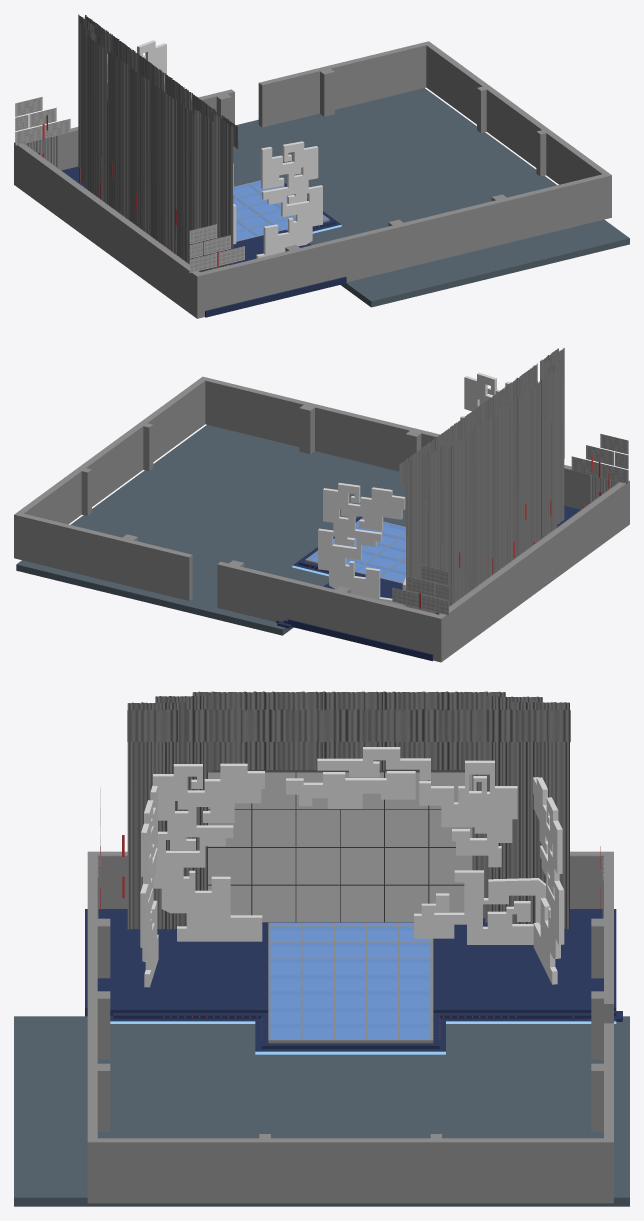
File: stage2.FBX
The picture shows the model from 3 angles, top to bottom: view 1: azimuth 30°, elevation 25°; view 2: azimuth 150°, elevation 25°; view 3: azimuth 270°, elevation 25°; orthographic projection. The views are drawn at different scales.
Visible parts, largest first — view 1: Line03, Rectangle17, Layer:01, obj_11, obj_20, obj_24, obj_22, obj_17, Group188, obj_10, Object03, obj_09 (+5 smaller); view 2: Line03, Rectangle17, Layer:02, obj_11, obj_22, obj_20, obj_24, obj_17, Group188, obj_16, obj_14, Object03 (+5 smaller); view 3: Rectangle17, Line03, Layer:0, Box01, Object03, Group188, Line01, Line31, obj_16, obj_10, Layer:02, Line08 (+15 smaller).
Boxes of the visible parts, x1=… form: Line03: x1=14, y1=41, x2=611, y2=318; Rectangle17: x1=233, y1=88, x2=629, y2=307; Layer:01: x1=256, y1=141, x2=322, y2=258; obj_11: x1=171, y1=97, x2=195, y2=264; obj_20: x1=107, y1=50, x2=128, y2=219; obj_24: x1=149, y1=81, x2=170, y2=250; obj_22: x1=128, y1=66, x2=149, y2=234; obj_17: x1=86, y1=34, x2=107, y2=203; Group188: x1=84, y1=15, x2=238, y2=149; obj_10: x1=216, y1=115, x2=233, y2=268; Object03: x1=233, y1=181, x2=326, y2=240; obj_09: x1=197, y1=110, x2=214, y2=271; Line03: x1=14, y1=376, x2=629, y2=662; Rectangle17: x1=16, y1=425, x2=405, y2=635; Layer:02: x1=318, y1=482, x2=405, y2=605; obj_11: x1=533, y1=368, x2=556, y2=543; obj_22: x1=488, y1=402, x2=512, y2=576; obj_20: x1=467, y1=418, x2=490, y2=592; obj_24: x1=510, y1=386, x2=533, y2=560; obj_17: x1=444, y1=434, x2=467, y2=605; Group188: x1=399, y1=348, x2=558, y2=486; obj_16: x1=406, y1=452, x2=423, y2=610; obj_14: x1=424, y1=447, x2=441, y2=613; Object03: x1=307, y1=518, x2=405, y2=582; Rectangle17: x1=14, y1=1016, x2=629, y2=1206; Line03: x1=87, y1=851, x2=613, y2=1203; Layer:0: x1=153, y1=747, x2=550, y2=944; Box01: x1=207, y1=770, x2=472, y2=922; Object03: x1=270, y1=922, x2=430, y2=1039; Group188: x1=127, y1=709, x2=570, y2=742; Line01: x1=85, y1=909, x2=268, y2=1016; Line31: x1=433, y1=909, x2=616, y2=1012; obj_16: x1=522, y1=702, x2=569, y2=929; obj_10: x1=127, y1=702, x2=175, y2=929; Layer:02: x1=533, y1=777, x2=564, y2=984; Line08: x1=110, y1=1011, x2=622, y2=1054.
Size of the model in its own units: 32388 by 13030 by 28778.
